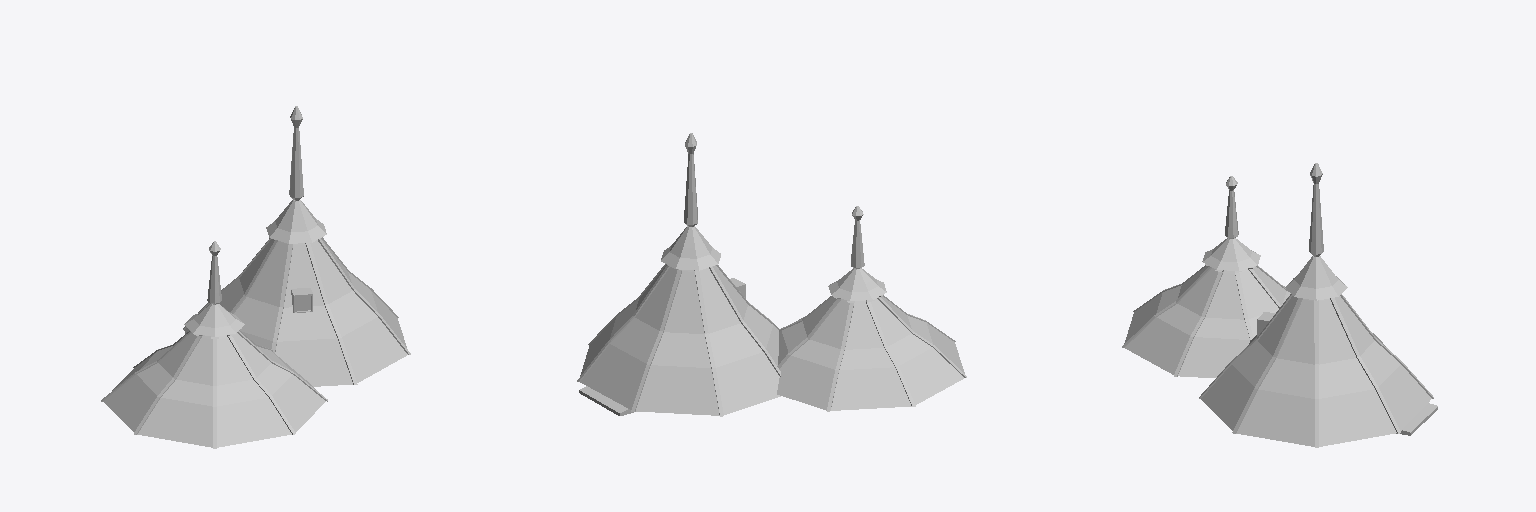
File: teto.obj
3 renders of one model, left to right at view 1: azimuth 30°, elevation 25°; view 2: azimuth 150°, elevation 25°; view 3: azimuth 270°, elevation 25°, orthographic.
Parts seen in each view (by area): view 1: Circle.004, Circle.001, Circle.002, Circle.005; view 2: Circle.001, Circle.004, Circle.002, Circle.005, Cube.001; view 3: Circle.001, Circle.004, Circle.002, Circle.005.
Part boxes in pixels (x1,y1,x2,y2): Circle.004: (101,328,327,448); Circle.001: (183,237,410,386); Circle.002: (266,106,326,243); Circle.005: (184,241,244,336); Circle.001: (577,264,780,416); Circle.004: (777,294,966,411); Circle.002: (661,133,720,270); Circle.005: (828,206,886,300); Cube.001: (579,386,635,415); Circle.001: (1199,294,1433,447); Circle.004: (1122,264,1290,377); Circle.002: (1285,163,1347,300); Circle.005: (1202,176,1260,270).
Size of the model in its own units: 9.6 by 6.94 by 8.2.